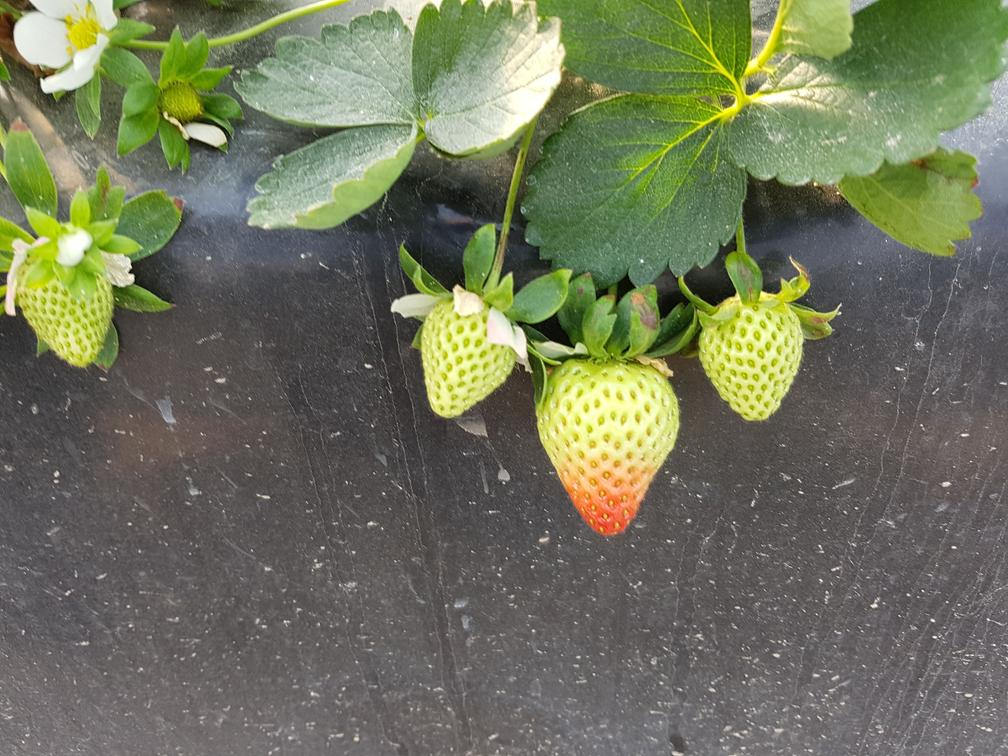Unripe: (534, 349, 683, 533), (701, 290, 807, 422), (413, 299, 524, 418), (15, 250, 116, 379)
